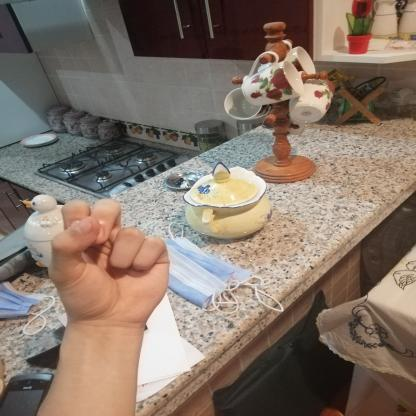QAAF: (33, 188, 187, 338)
